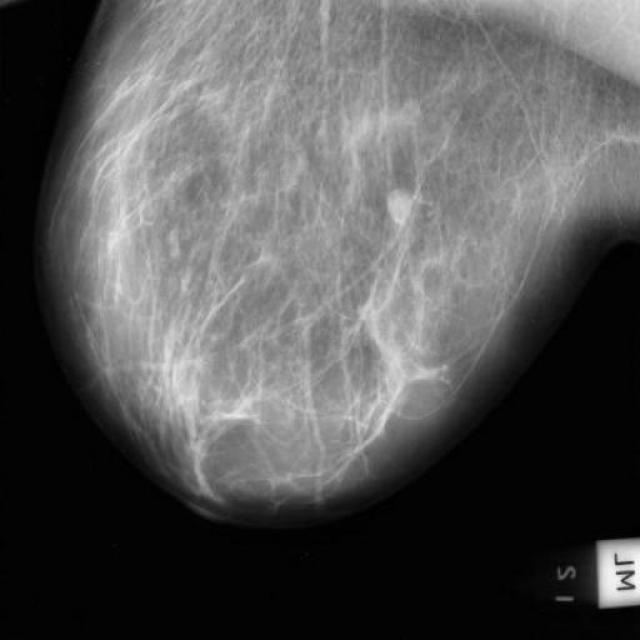cancer: (350, 376, 416, 460)
